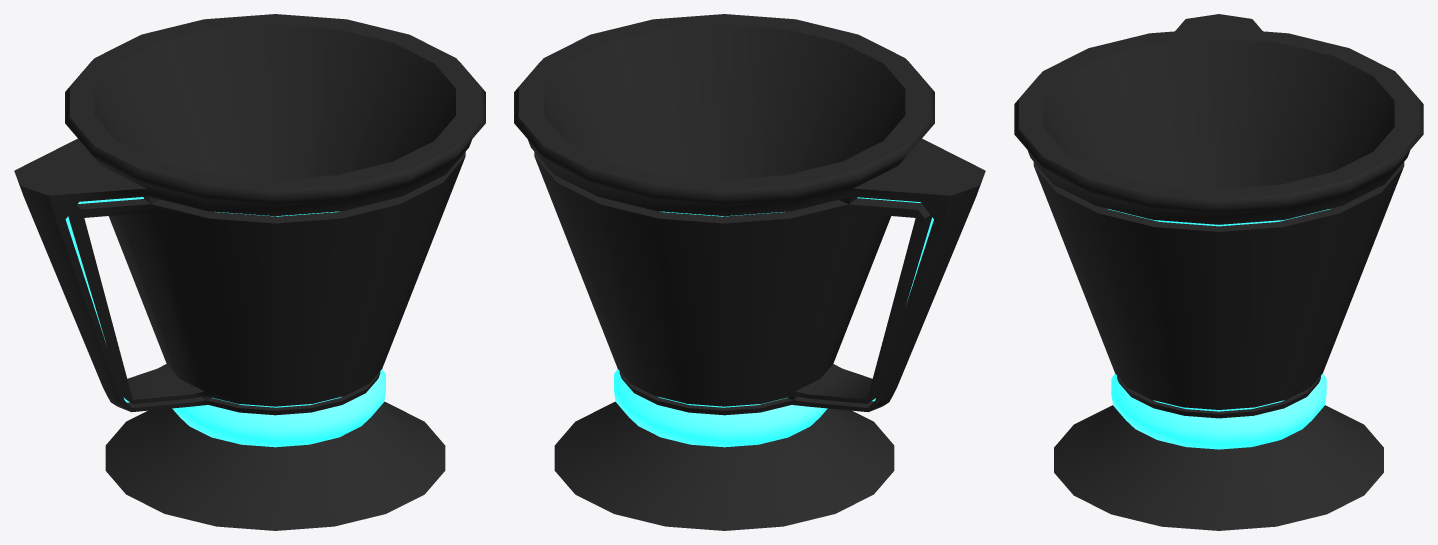
Rendered from tasse.fbx.
3 views of the same model, side by side, from view 1: azimuth 30°, elevation 25°; view 2: azimuth 150°, elevation 25°; view 3: azimuth 270°, elevation 25° (orthographic). The views are drawn at different scales.
Parts seen in each view (by area): view 1: Cylinder001; view 2: Cylinder001; view 3: Cylinder001.
Part boxes in pixels (x1,y1,x2,y2): Cylinder001: [14, 14, 485, 530]; Cylinder001: [514, 14, 985, 530]; Cylinder001: [1014, 14, 1423, 530].
Size of the model in its own units: 14.79 by 11.44 by 12.26.
